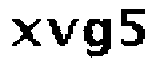5: (116, 6, 150, 49)
g: (82, 16, 115, 60)
v: (44, 17, 79, 46)
x: (7, 17, 43, 50)
